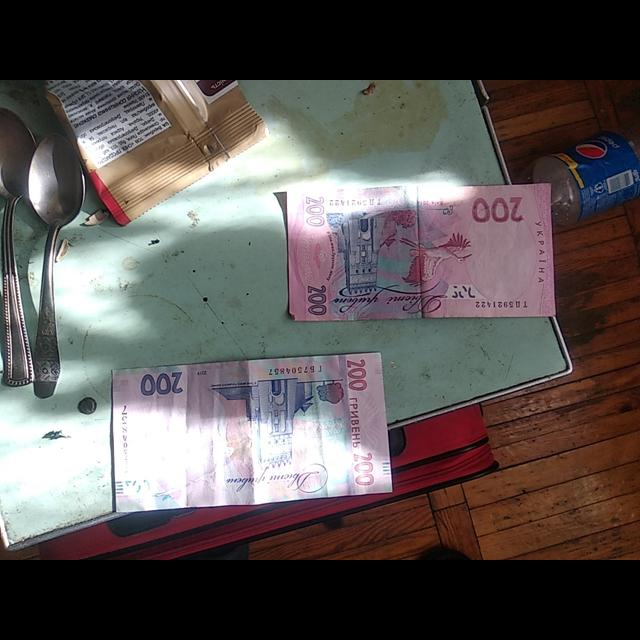200uah: (114, 353, 393, 512), (284, 184, 554, 316)
